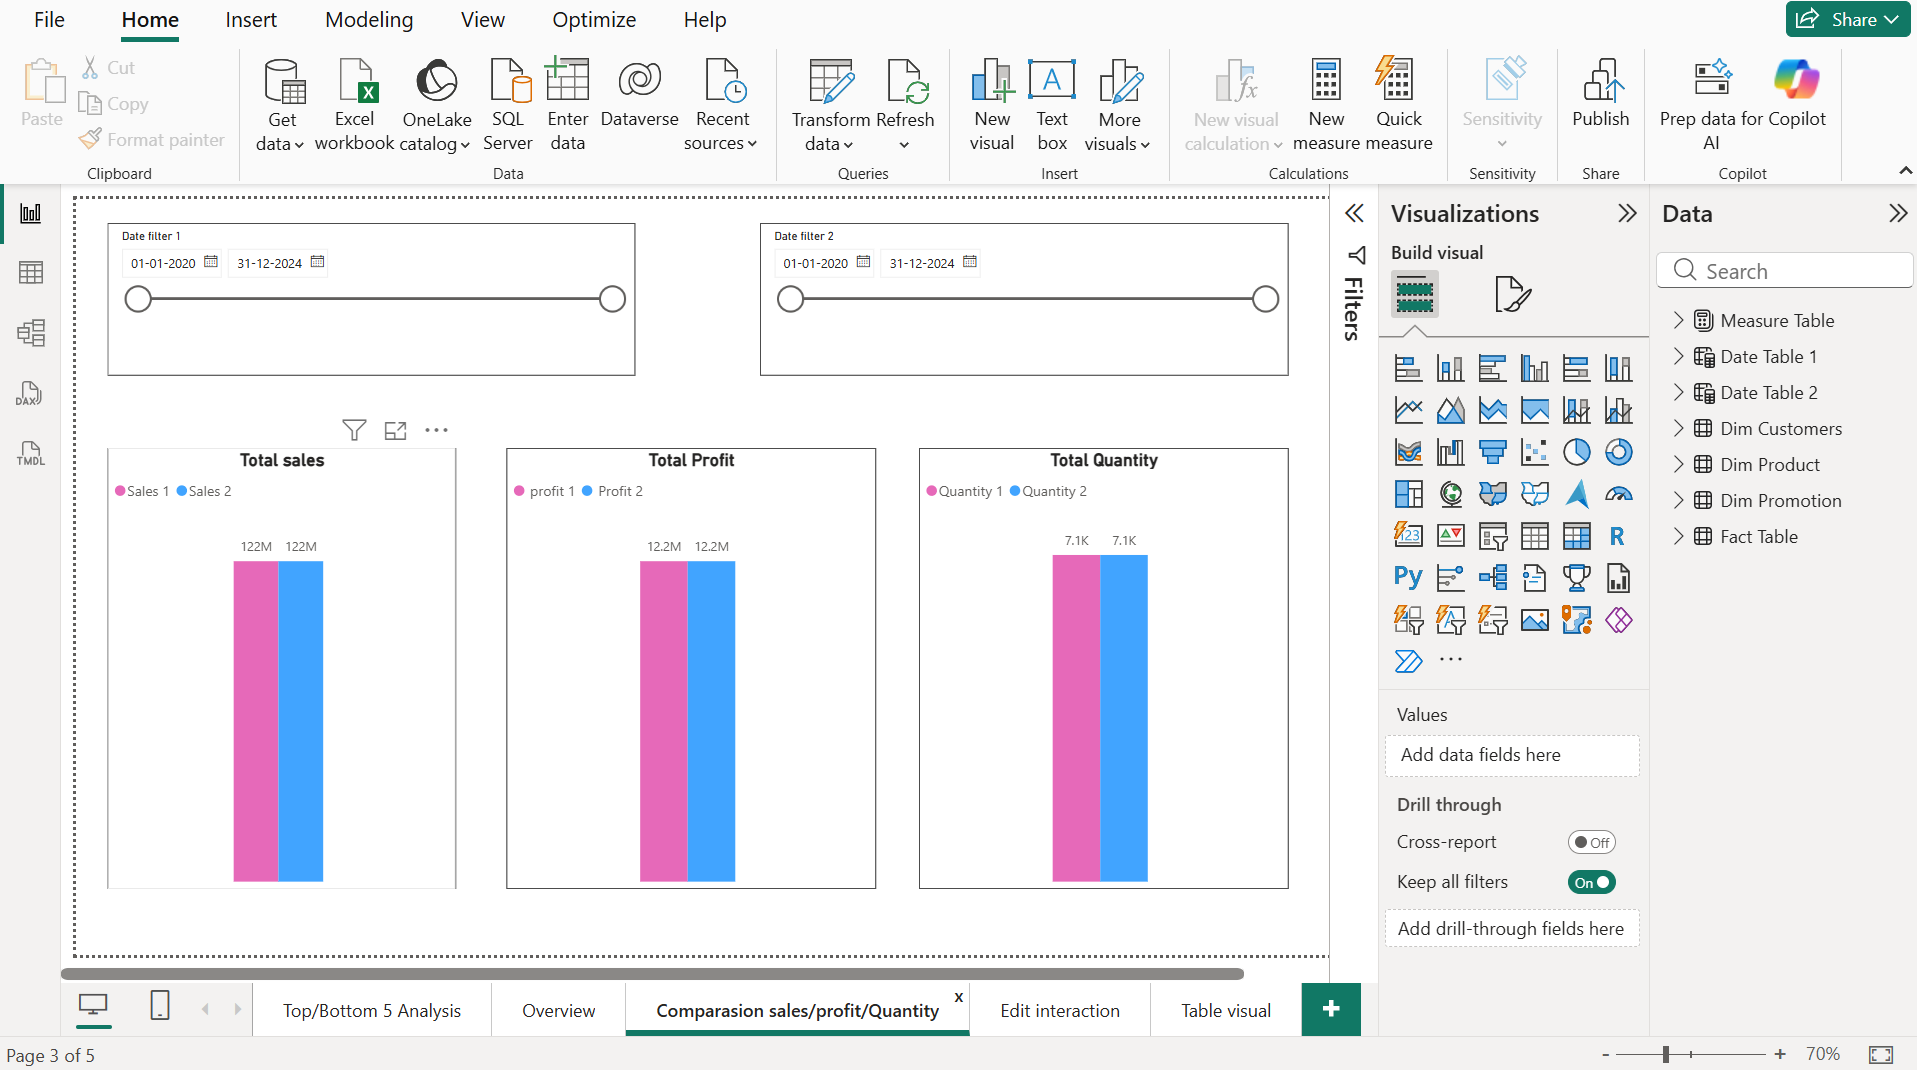

The dashboard page shown, as its layout file describes it:
{"tool":"powerbi","page":{"name":"Comparasion sales/profit/Quantity","canvas":[1280,720],"ordinal":2},"visuals":[{"type":"slicer","fields":{"Values":["Date Table 1.Date"]},"box":[30.2,22.7,502.7,145.5],"z":0},{"type":"slicer","fields":{"Values":["Date Table 2.Date"]},"box":[651.7,23.3,503.3,145],"z":1000},{"type":"clusteredColumnChart","title":"Total sales","fields":{"Y":["Sum(Fact Table.net sales)","Date Table 1.sum of net sales"]},"box":[30,236.7,331.7,420],"z":2000},{"type":"clusteredColumnChart","title":"Total Profit","fields":{"Y":["Sum(Fact Table.profit)","Measure Table.Total Profit"]},"box":[410,236.7,351.7,420],"z":3000},{"type":"clusteredColumnChart","title":"Total Quantity","fields":{"Y":["Sum(Fact Table.Units Sold)","Measure Table.Total Quantity"]},"box":[803.3,236.7,351.7,420],"z":4000}]}

Visuals, with their boxes on the page's 1280x720 design canvas (x1, y1, x2, y2). These are canvas units, not pixel positions in the 1917x1070 screenshot, which may show the page scaled, cropped or inside an application window:
slicer - Date Table 1.Date: (left=30, top=23, right=533, bottom=168)
slicer - Date Table 2.Date: (left=652, top=23, right=1155, bottom=168)
"Total sales" clusteredColumnChart: (left=30, top=237, right=362, bottom=657)
"Total Profit" clusteredColumnChart: (left=410, top=237, right=762, bottom=657)
"Total Quantity" clusteredColumnChart: (left=803, top=237, right=1155, bottom=657)
